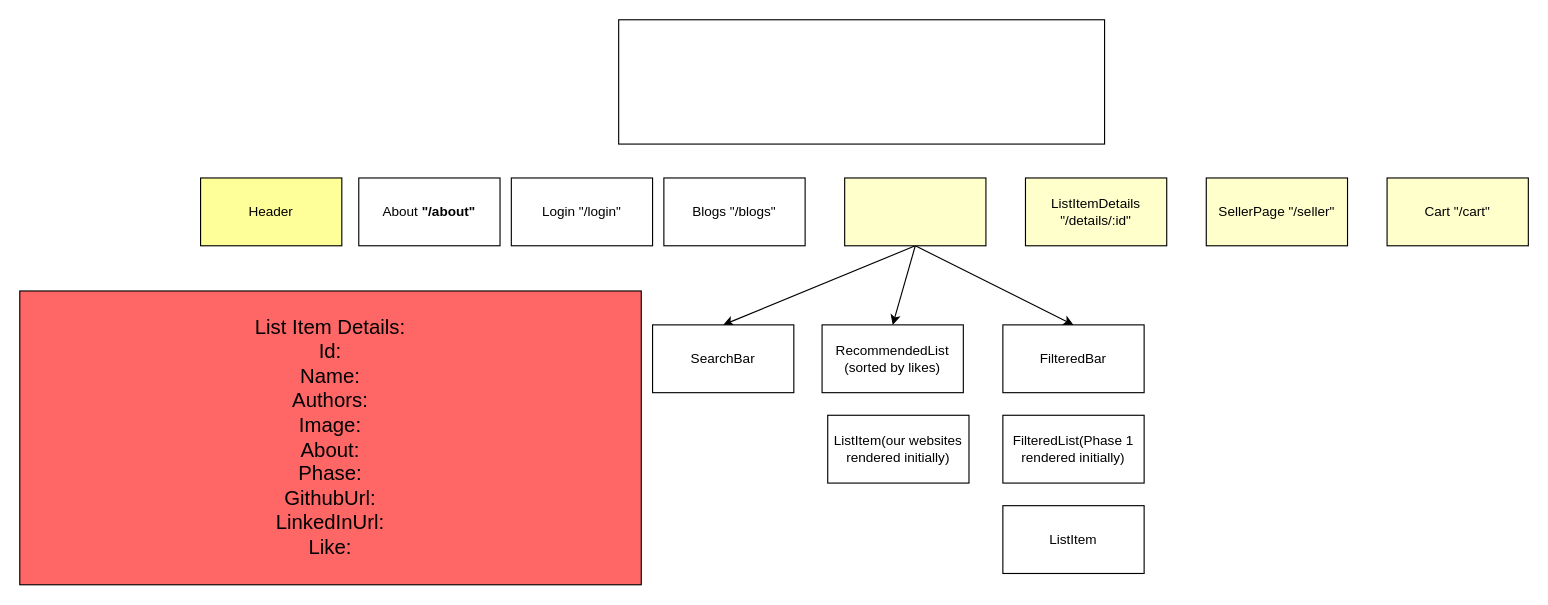
This 1548x605 diagram has some shape labels left out. Here are the shapes that lost their labels. From the top down, the box of each, then its label:
(618, 19, 1105, 144): App EXACT "/" States: -list -wishlist
(844, 177, 986, 246): MainContainer State: filteredList
